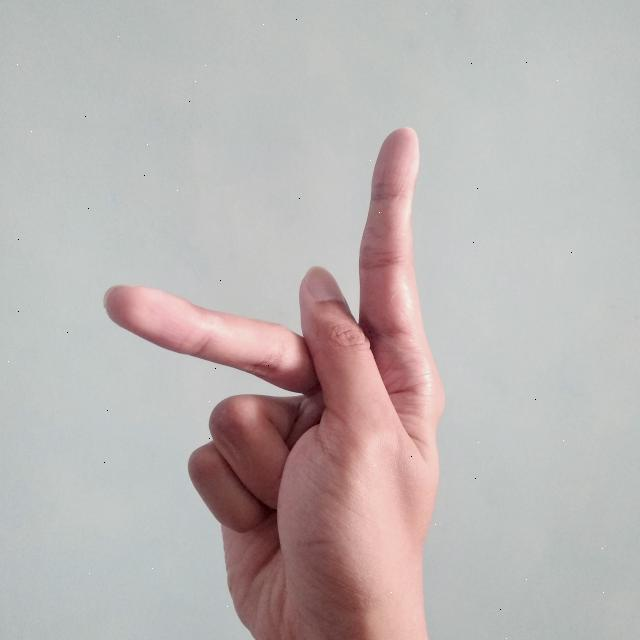K: (96, 118, 460, 640)
